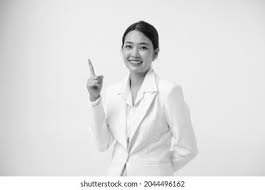pointing_gesture: (83, 56, 105, 98)
